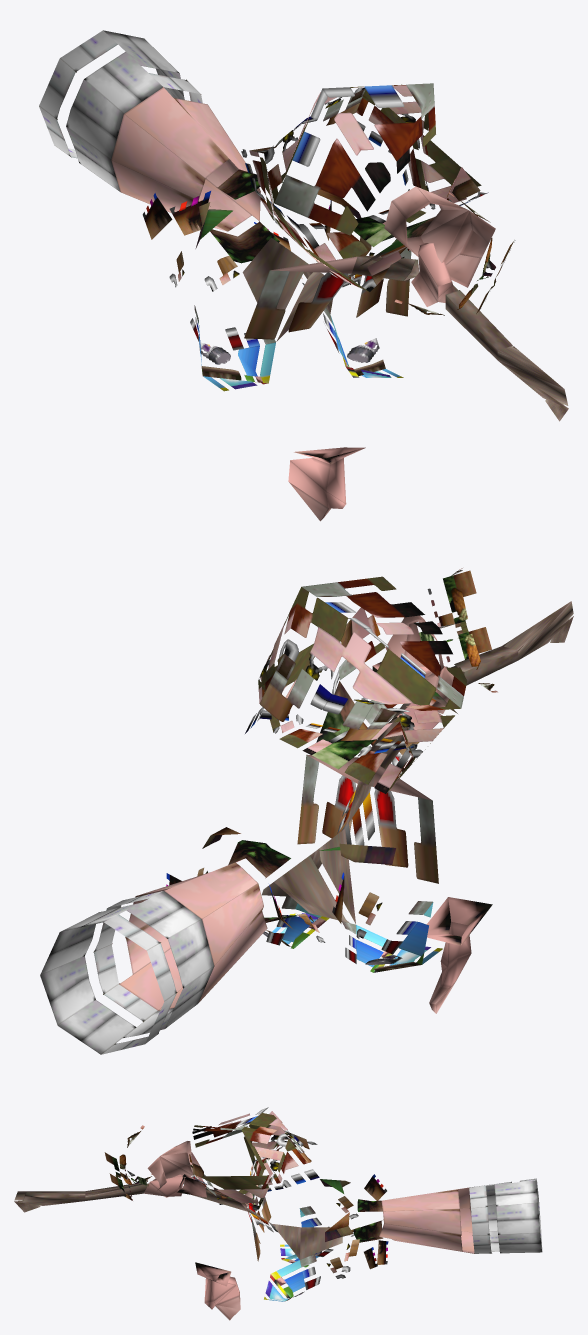
3 views of the same model, one above another, from view 1: azimuth 30°, elevation 25°; view 2: azimuth 150°, elevation 25°; view 3: azimuth 270°, elevation 25° (orthographic). The views are drawn at different scales.
Visible parts, largest first — view 1: T1L2M008_4; view 2: T1L2M008_4; view 3: T1L2M008_4.
Part boxes in pixels (left/top/right/bottom): T1L2M008_4: left=39, top=30, right=568, bottom=521; T1L2M008_4: left=40, top=568, right=573, bottom=1054; T1L2M008_4: left=14, top=1107, right=542, bottom=1320.
Bounding box in the file's own units: 0.5041 × 0.7488 × 1.68.
